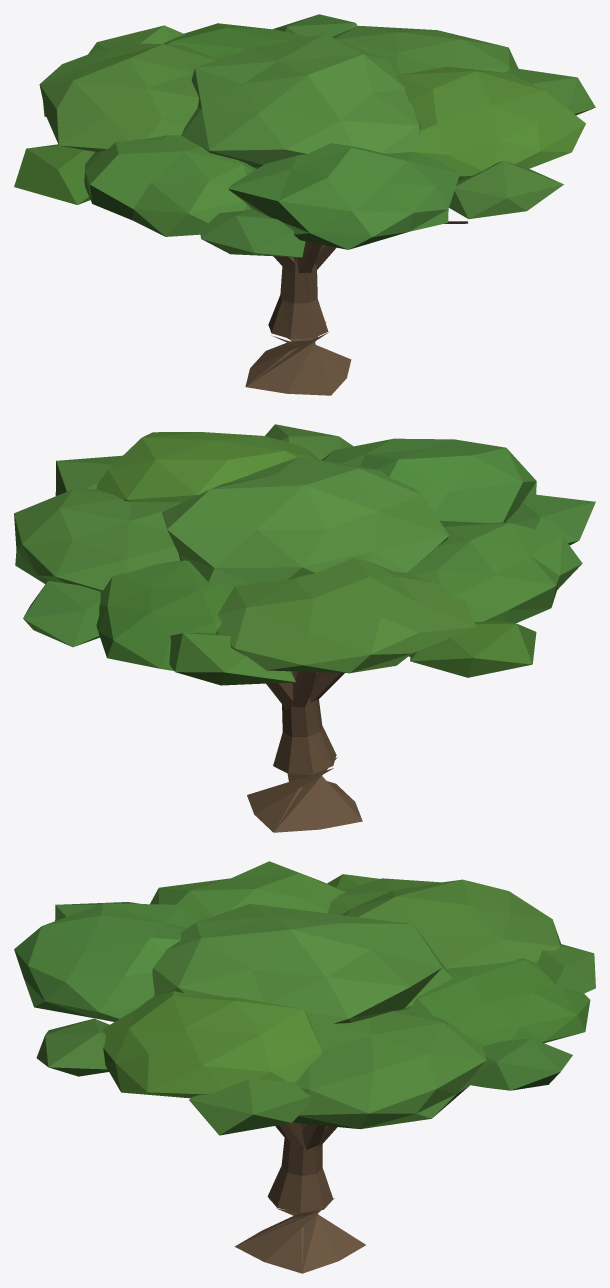
File: umbrella_a.glb
3 renders of one model, top to bottom at view 1: azimuth 30°, elevation 25°; view 2: azimuth 150°, elevation 25°; view 3: azimuth 270°, elevation 25°, orthographic. The views are drawn at different scales.
Visible parts, largest first — view 1: umbrella; view 2: umbrella; view 3: umbrella.
Part boxes in pixels (<box>): umbrella: <box>14,14,595,395</box>; umbrella: <box>14,424,595,832</box>; umbrella: <box>14,861,595,1273</box>.
Bounding box in the file's own units: 16.99 × 9.59 × 15.86.
